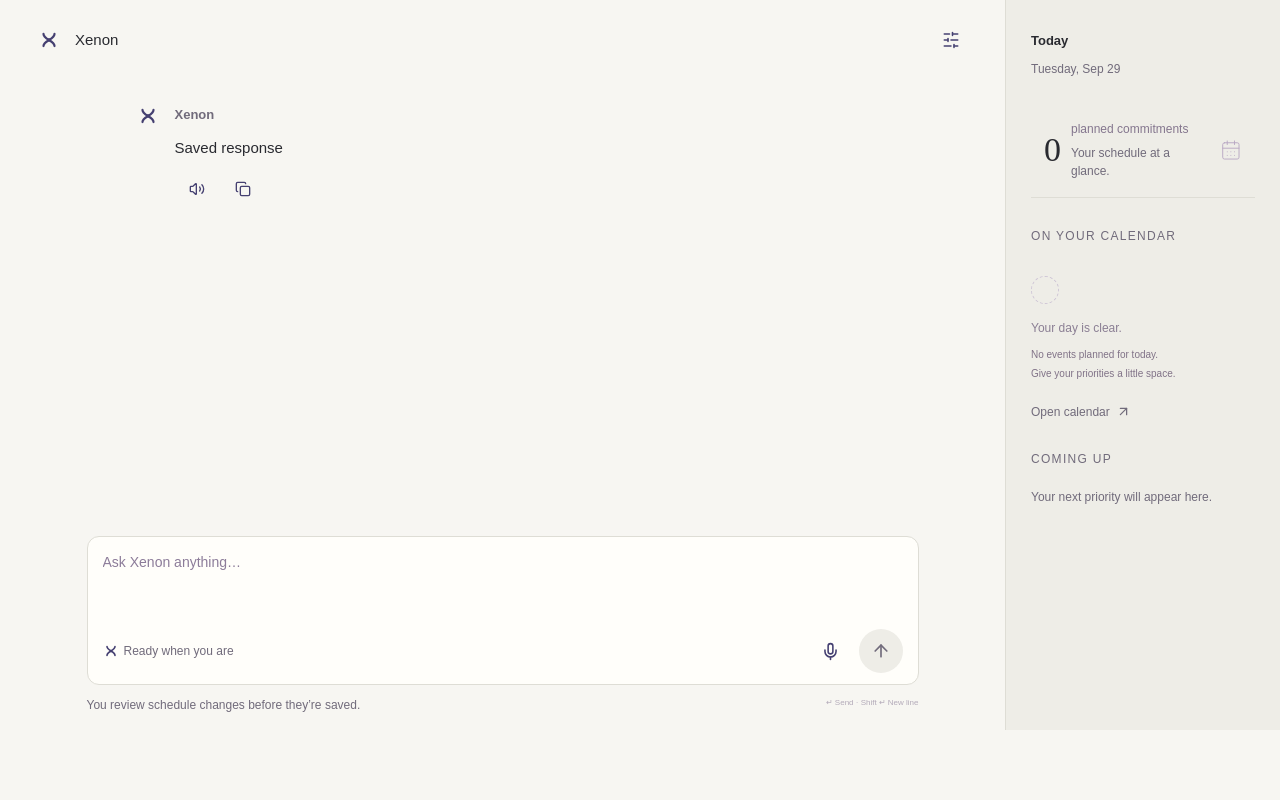
Test case: keeps assistant text visible when synthesis fails
The image size is (1280, 800).
Click the button named "Read response aloud".
click(196, 188)  # box [174, 166, 218, 210]
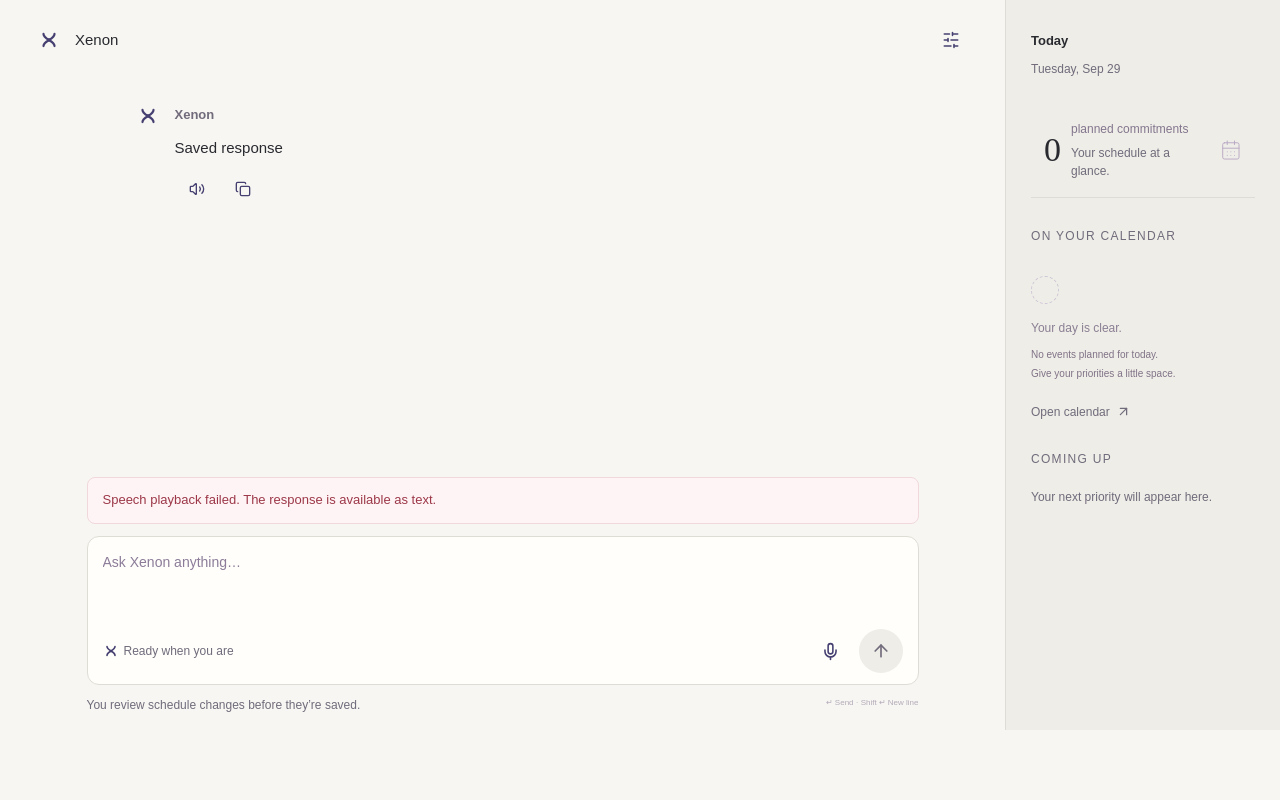
Expected: the text "Saved response" is shown, [174, 138, 283, 156]
Expected: the text "Speech playback failed. The response is available as text." is shown, [86, 477, 918, 524]
